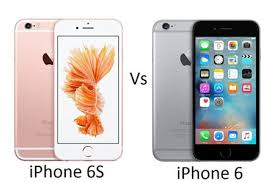iphone: (187, 17, 262, 164), (50, 13, 125, 160)
iphone6: (49, 15, 124, 162), (188, 17, 263, 164)
